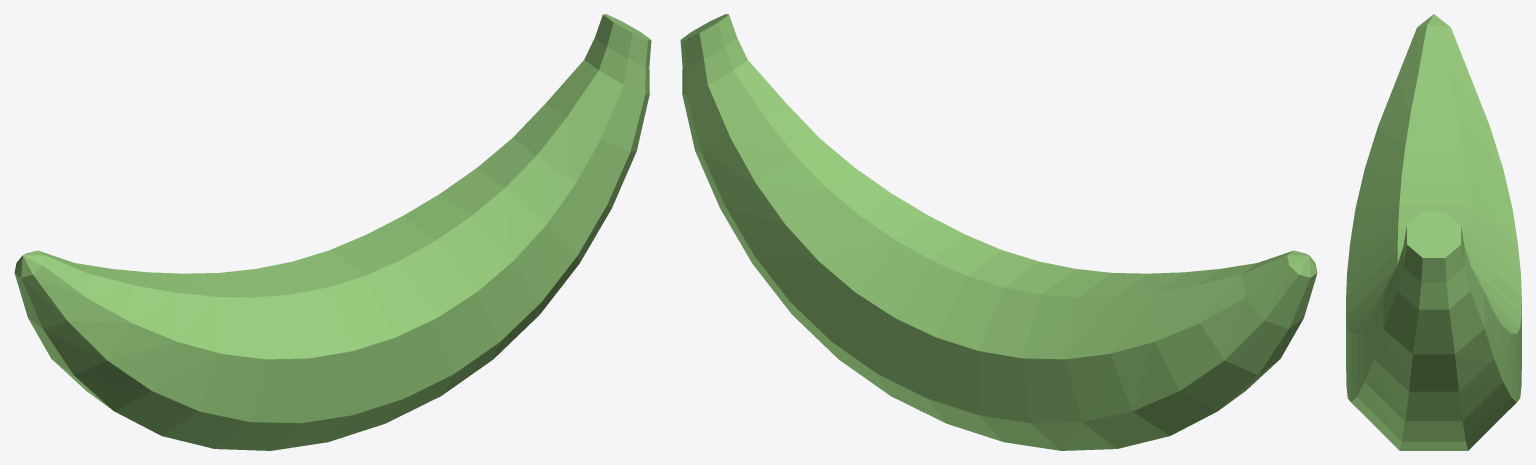
The model's file is banana_unripe.glb.
3 renders of one model, left to right at view 1: azimuth 30°, elevation 25°; view 2: azimuth 150°, elevation 25°; view 3: azimuth 270°, elevation 25°, orthographic. The views are drawn at different scales.
Visible parts, largest first — view 1: banana; view 2: banana; view 3: banana.
Boxes of the visible parts, box(x1,y1,x2,y2) form: banana: box(14, 14, 651, 450); banana: box(680, 14, 1317, 450); banana: box(1346, 14, 1521, 450).
Bounding box in the file's own units: 0.204 × 0.1049 × 0.048.
